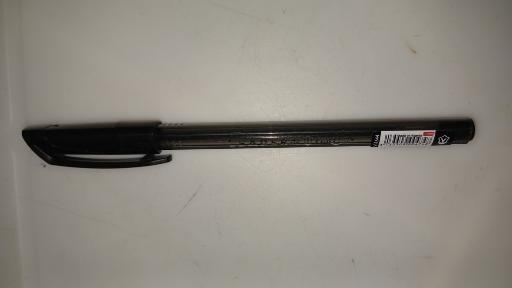pen: (21, 122, 475, 170)
